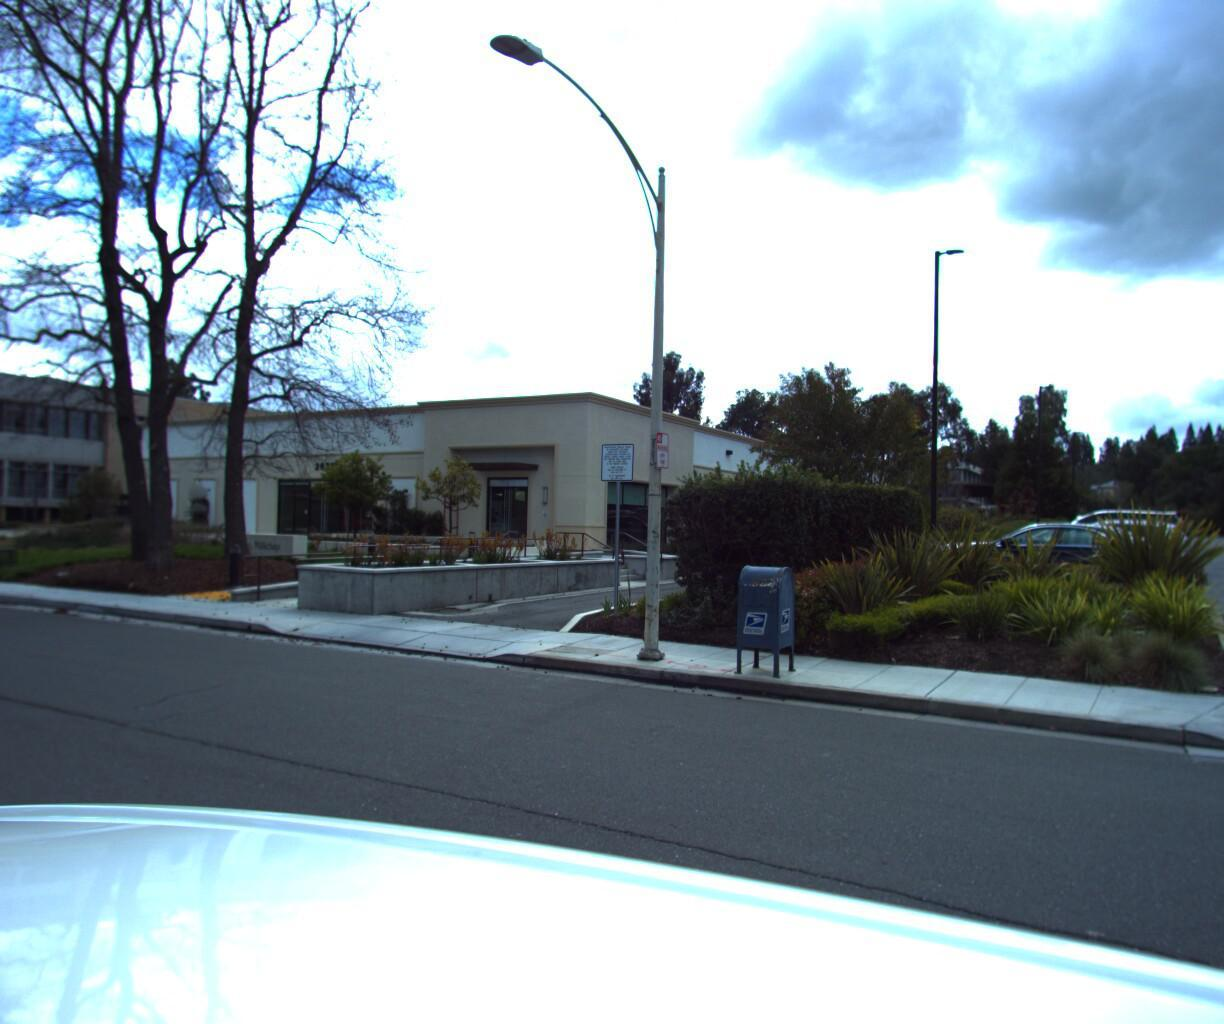car: (911, 522, 1181, 616)
